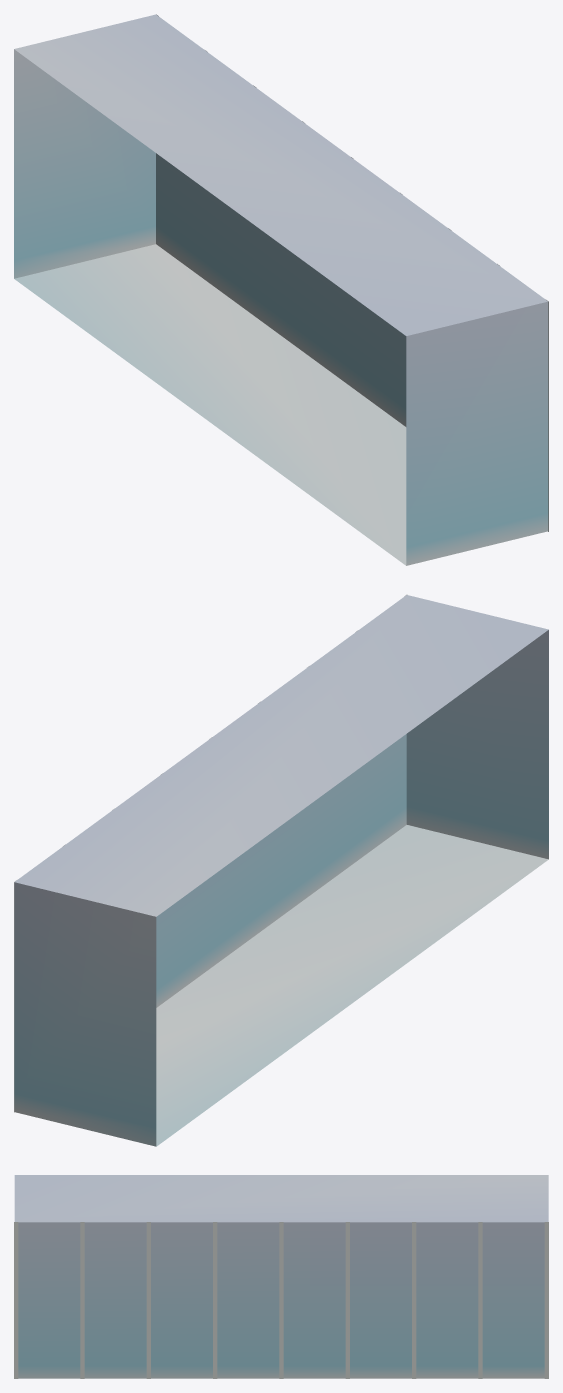
File: ClosedBalcony.fbx
3 renders of one model, top to bottom at view 1: azimuth 30°, elevation 25°; view 2: azimuth 150°, elevation 25°; view 3: azimuth 270°, elevation 25°, orthographic. The views are drawn at different scales.
Parts seen in each view (by area): view 1: Cube; view 2: Cube; view 3: Cube.
Boxes of the visible parts, x1,y1,x2,y2 form: Cube: (14, 14, 548, 565); Cube: (14, 594, 548, 1146); Cube: (14, 1175, 548, 1378).
Bounding box in the file's own units: 9.19 × 1.92 × 2.98.
